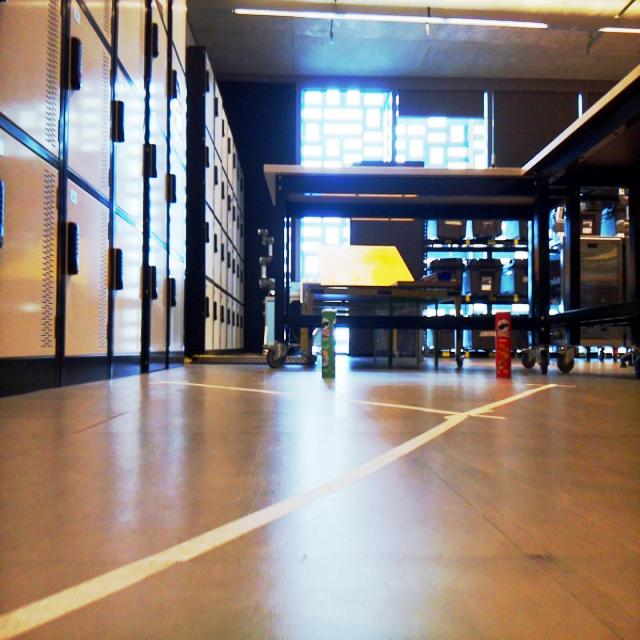greenpringles: (317, 304, 340, 387)
redpringles: (487, 308, 520, 384)
